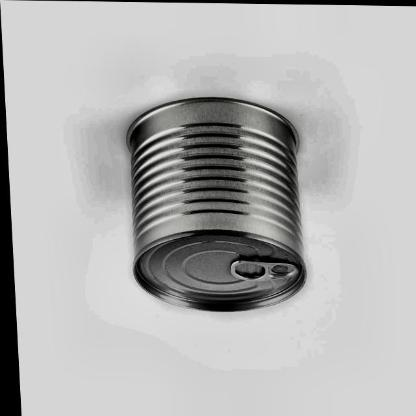Can: (116, 87, 310, 323)
